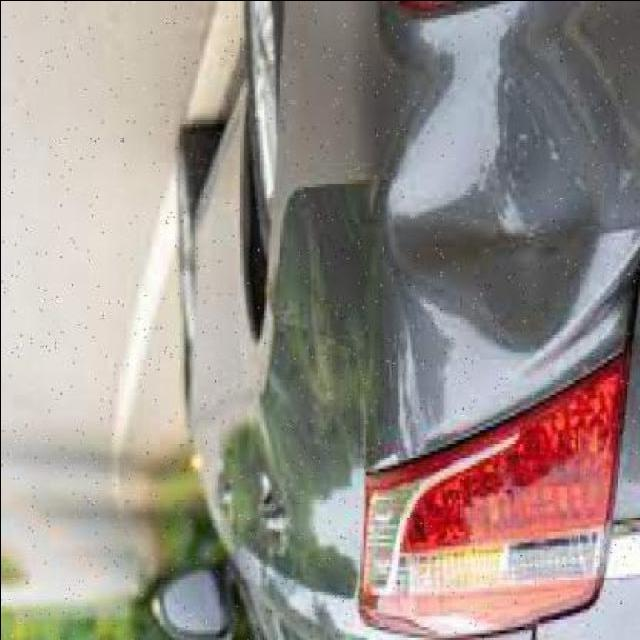rear-bumper-dent: (300, 7, 640, 429)
